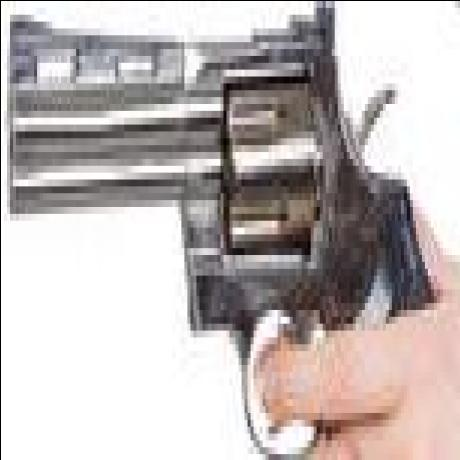weapon: (0, 3, 434, 460)
